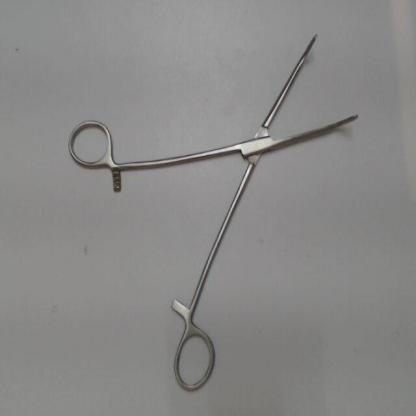Lahey Forceps: (63, 24, 369, 399)
